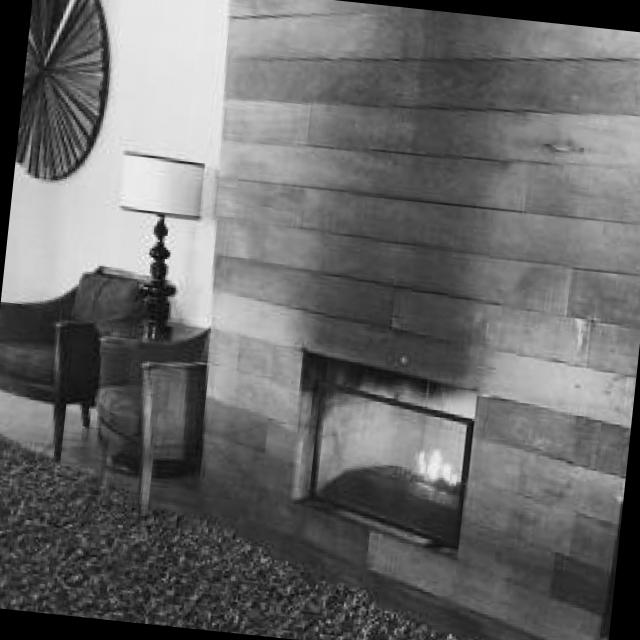fire: (418, 432, 468, 492)
